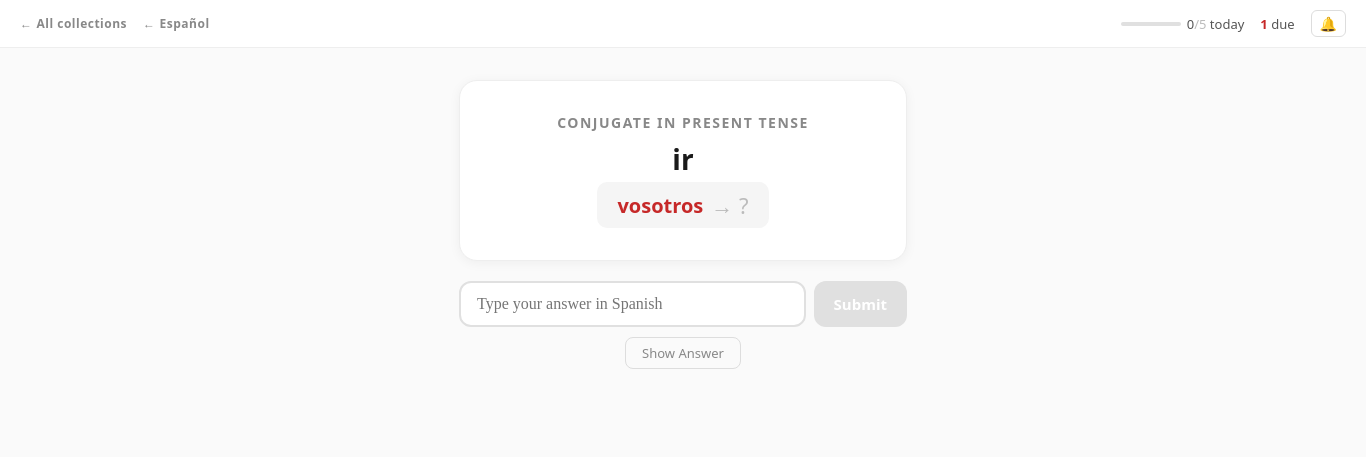
Test: Practice surface › shows close feedback and only a Continue button in typed-close path
Expected: the text "ir" is shown, x1=672 y1=140 x2=694 y2=178
Type "vais" into the field labelled "Type your answer in Spanish" at [632, 304], box x1=459 y1=281 x2=806 y2=327
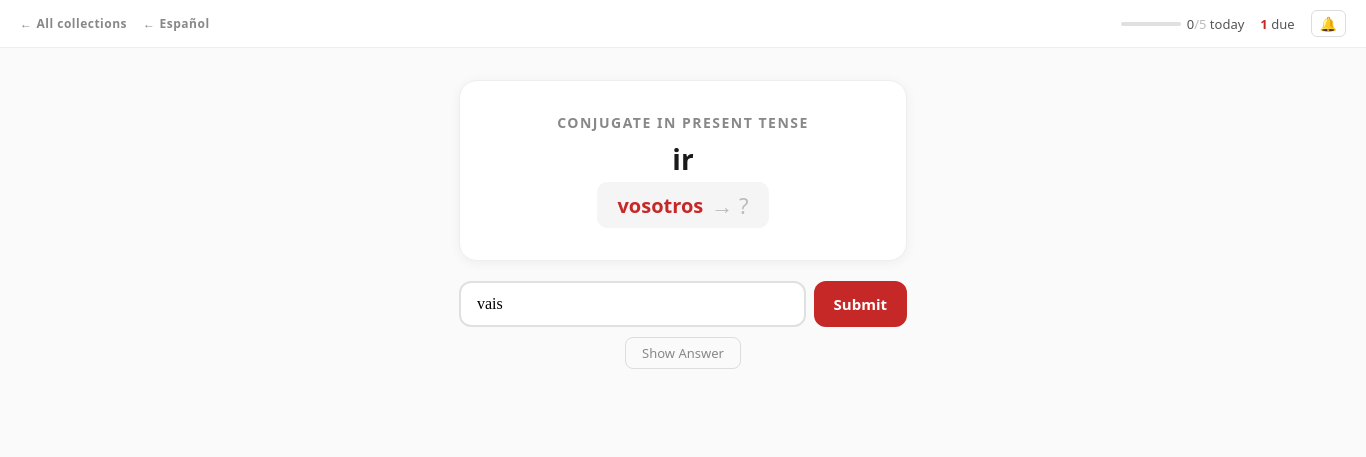
Click the button with aria-label "submit answer" at [860, 304], box x1=814 y1=281 x2=907 y2=327
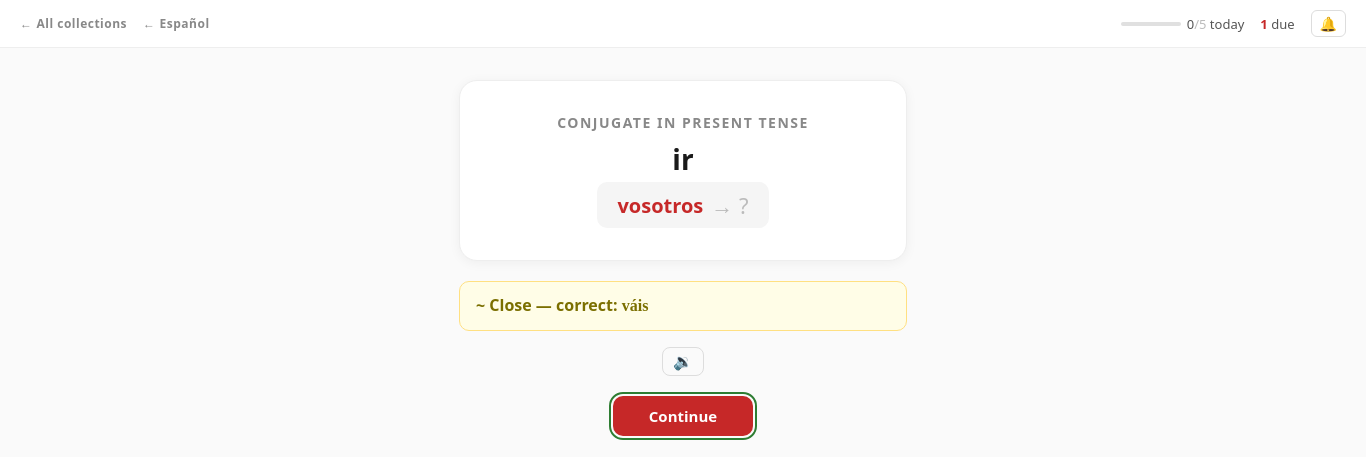
Now the element with test id "answer-feedback" is shown, box x1=459 y1=281 x2=907 y2=331
Now the element with test id "answer-feedback" shows "Close", box x1=485 y1=294 x2=618 y2=316
Now the button "Continue" is shown, box x1=613 y1=396 x2=753 y2=436
